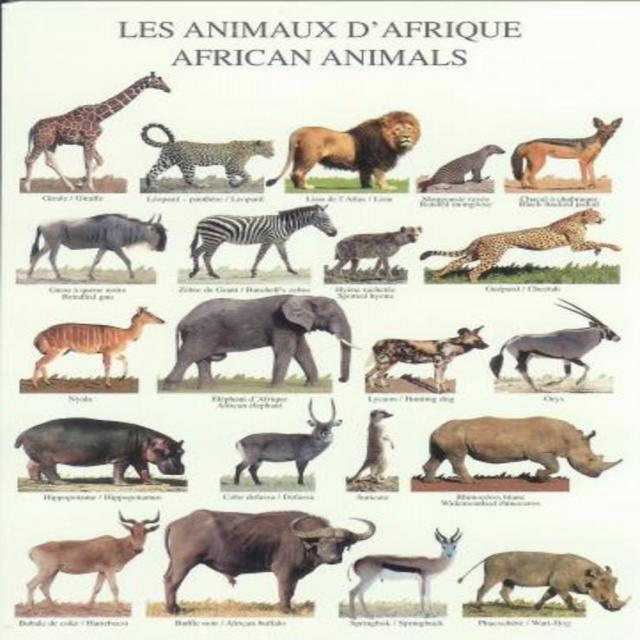elephant: (146, 288, 361, 389)
